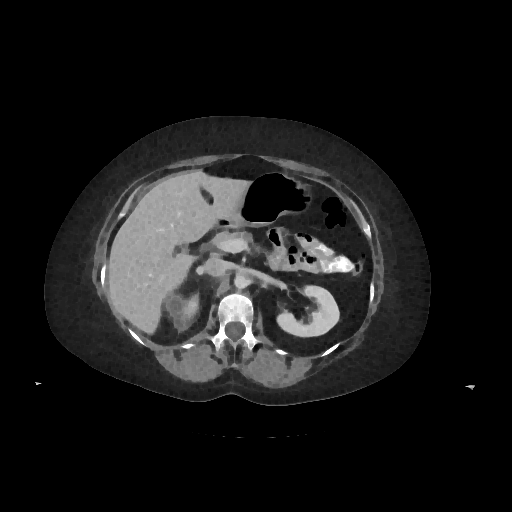Lesion: (163, 293, 184, 316)
